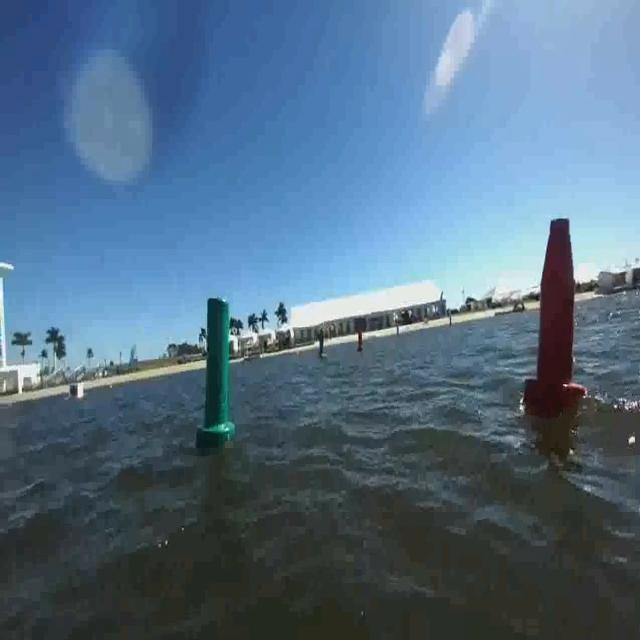green-column-buoy: (199, 293, 237, 444)
red-column-buoy: (525, 212, 585, 418)
